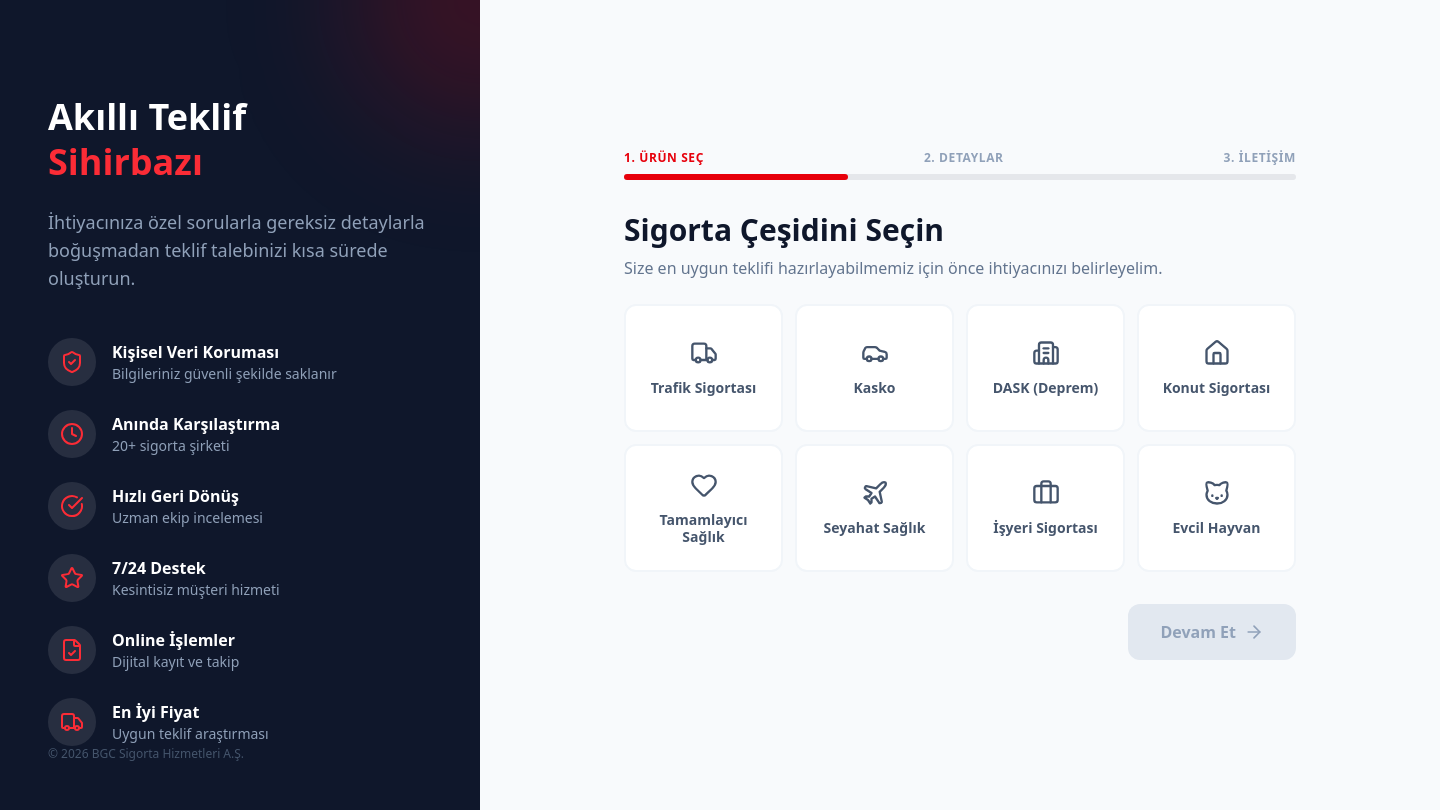
Test: TeklifAlPage › requires vehicle fields before moving to contact step
The image size is (1440, 810).
Click the button "Trafik Sigortası": coordinates (704, 368) [624,304,783,432]
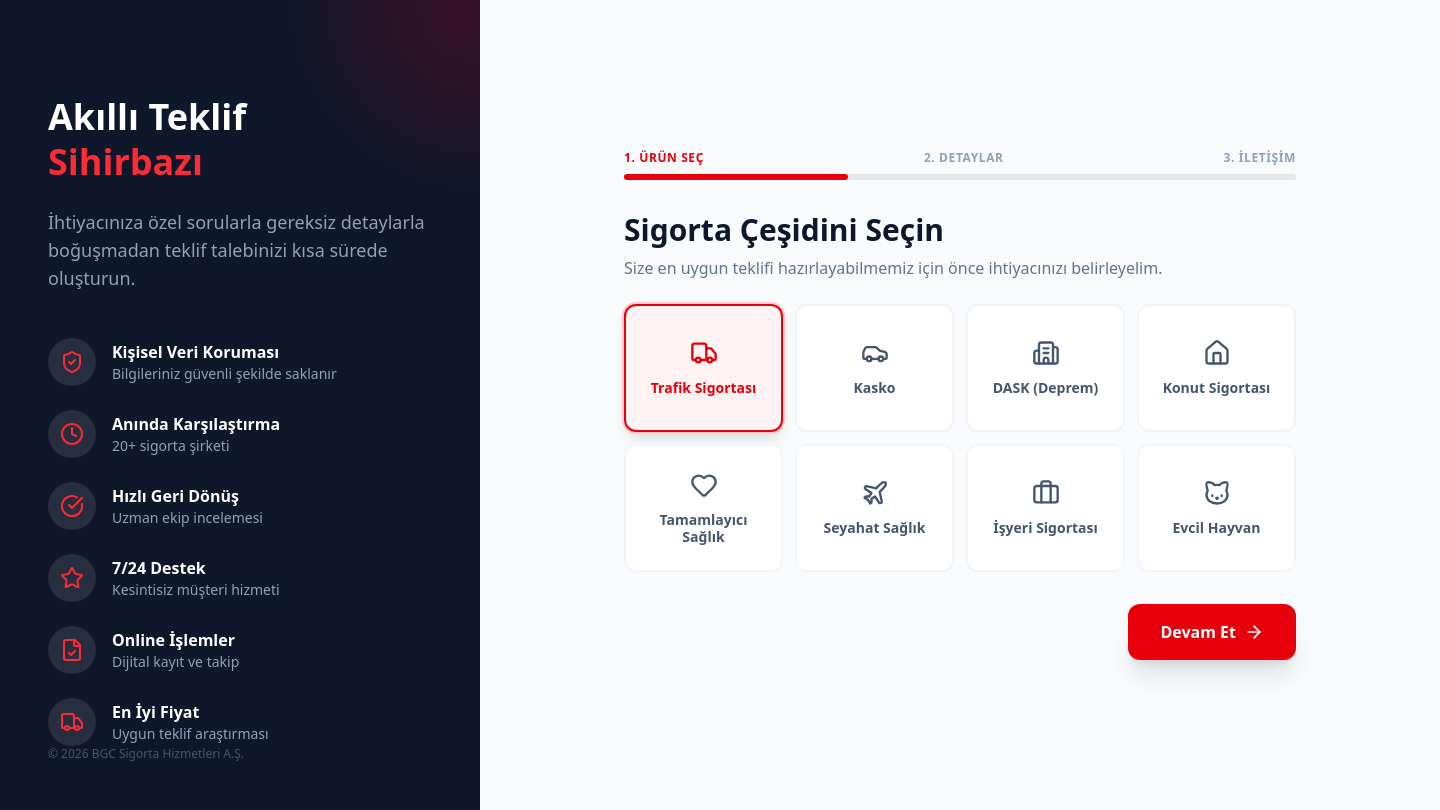
Click the button "Devam Et": coordinates (1212, 632) [1128,604,1296,660]
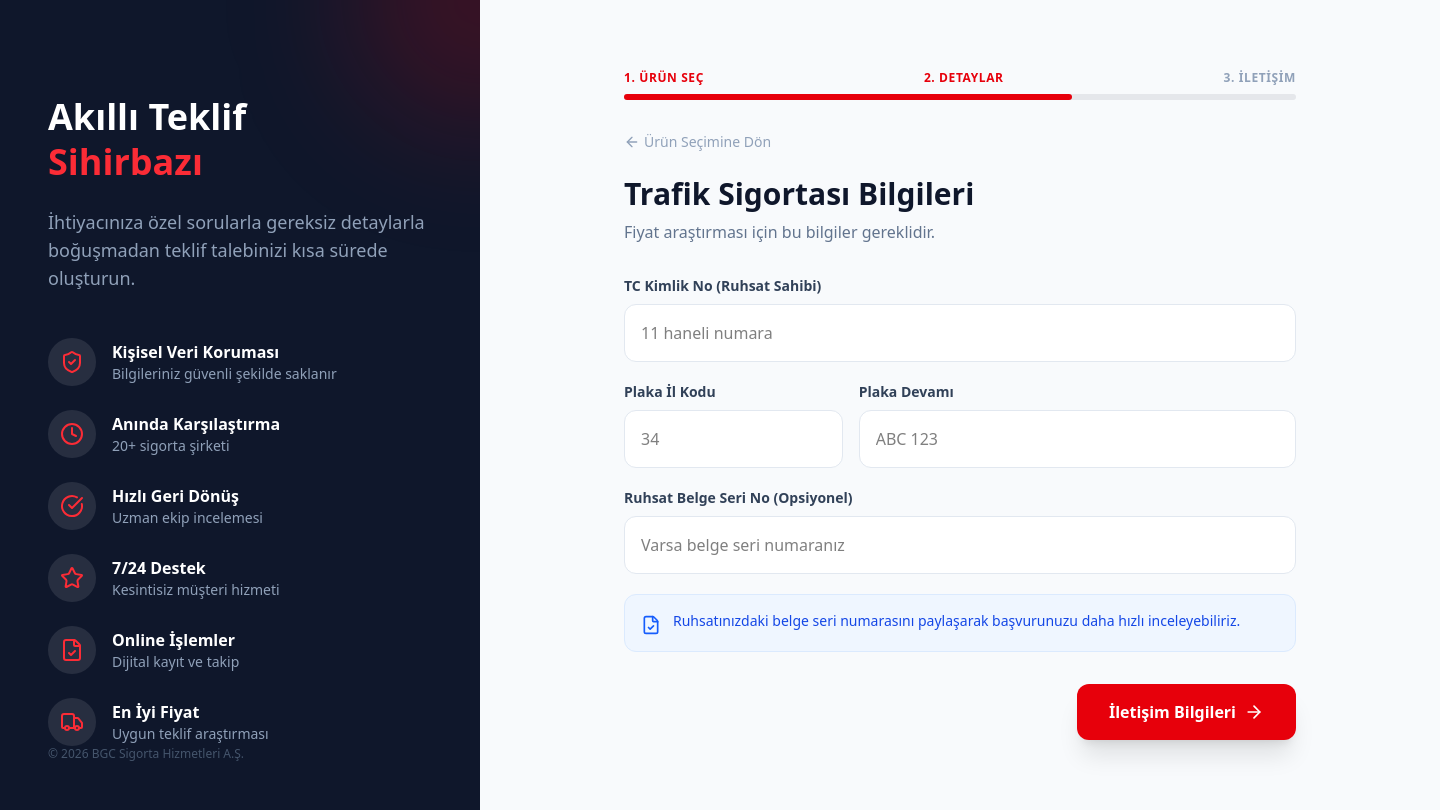
Now the heading "Trafik Sigortası Bilgileri" is shown, box [624,173,974,214]
Click the button "İletişim Bilgileri": coordinates (1186, 712) [1077,684,1296,740]
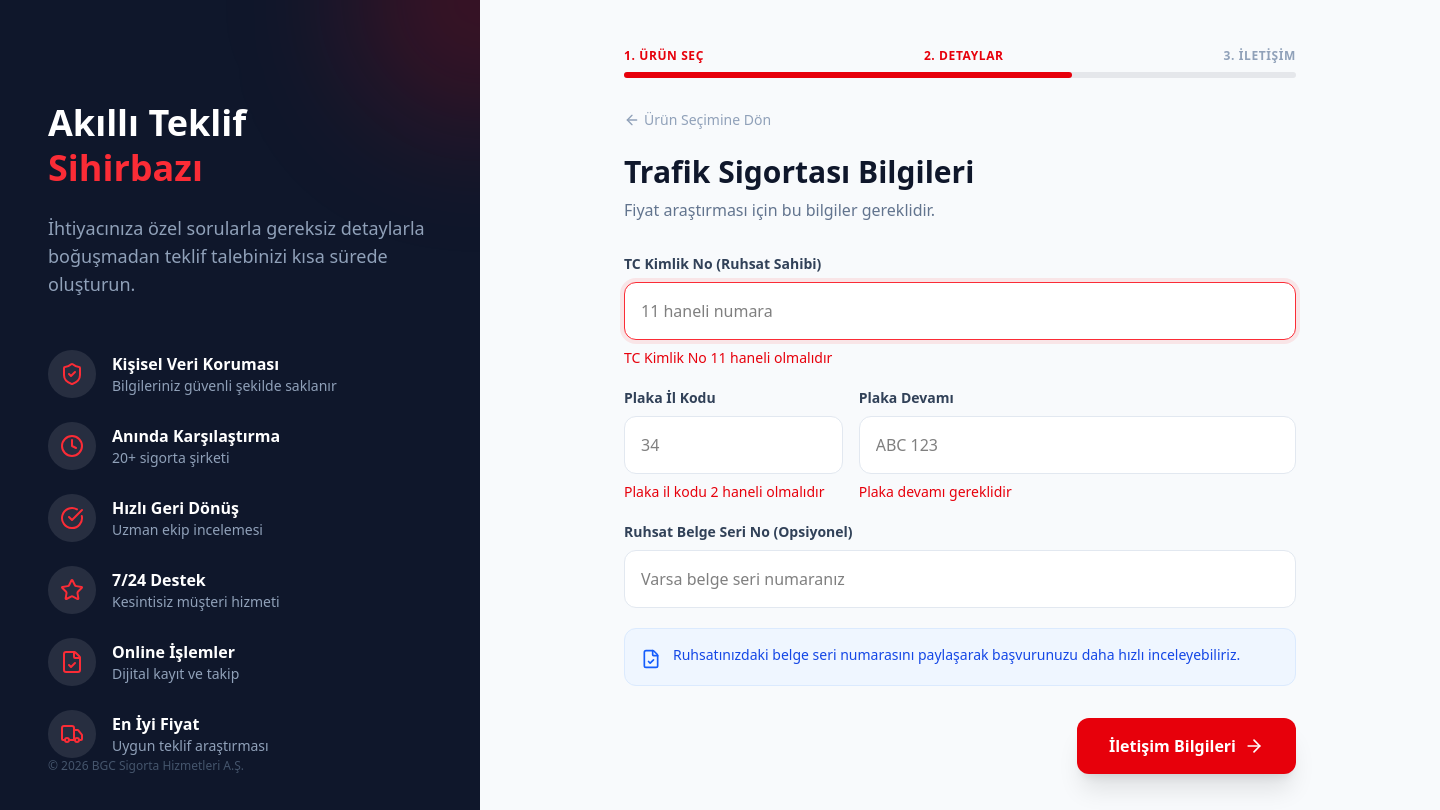
Now the text "TC Kimlik No 11 haneli olmalıdır" is shown, box [624,348,832,367]
Now the text "Plaka il kodu 2 haneli olmalıdır" is shown, box [624,482,843,502]
Now the text "Plaka devamı gereklidir" is shown, box [859,482,1012,501]
